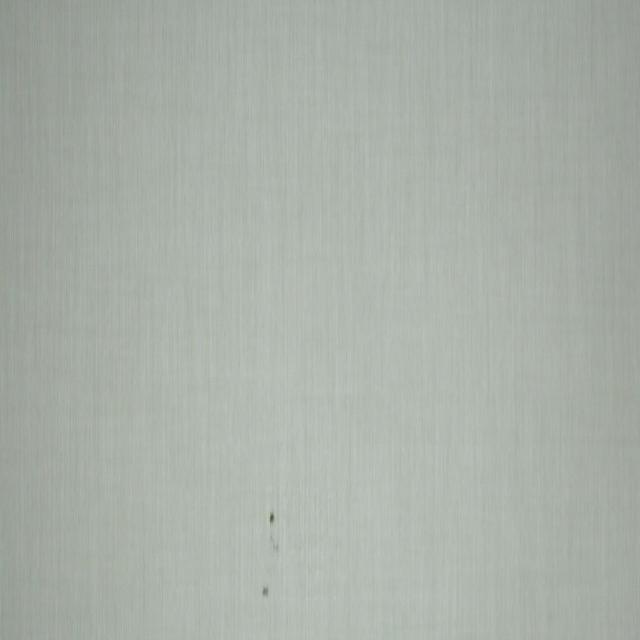dirty: (270, 534, 279, 554), (269, 512, 275, 526), (262, 586, 269, 598)
